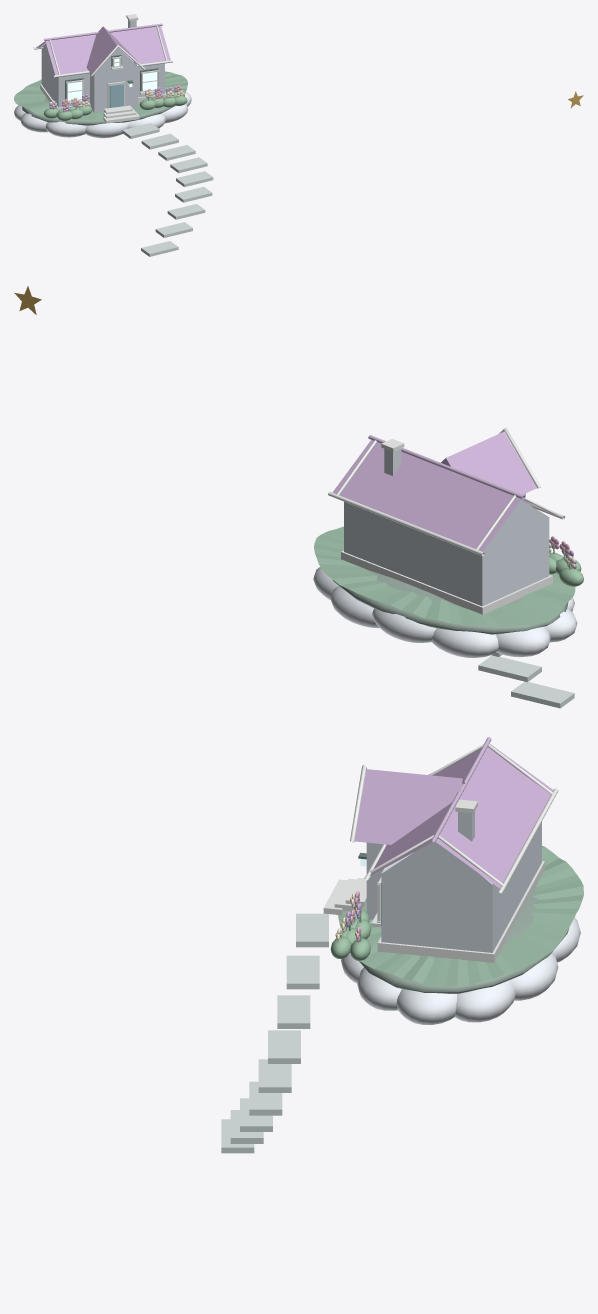
The model's file is cottage.glb.
3 views of the same model, one above another, from view 1: azimuth 30°, elevation 25°; view 2: azimuth 150°, elevation 25°; view 3: azimuth 270°, elevation 25° (orthographic). The views are drawn at different scales.
Visible parts, largest first — view 1: Rose pitched roof -1, Front cross gable plaster, Cottage irregular meadow, Cottage main plaster volume, Cross gable rose roof -1, Cottage mossy underside, Soft cloud underside 08, Soft cloud underside 07, Cloud approach floating step 02, Cloud approach floating step 01, Cloud approach floating step 05, Cloud approach floating step 07 (+9 smaller); view 2: Cottage main plaster volume, Rose pitched roof 1, Cottage irregular meadow, Cross gable rose roof -1, Cottage mossy underside, Cottage foundation trim, Soft cloud underside 04, Soft cloud underside 05, Soft cloud underside 03, Soft cloud underside 02, Cloud approach floating step 00, Cloud approach floating step 01 (+4 smaller); view 3: Cottage main plaster volume, Cottage irregular meadow, Rose pitched roof 1, Cross gable rose roof 1, Main gable infill.001, Cottage mossy underside, Cottage foundation trim, Rose pitched roof -1, Soft cloud underside 01, Soft cloud underside 00, Soft cloud underside 02, Cloud approach floating step 07 (+8 smaller).
Boxes of the visible parts, left/top/right/bottom form: Rose pitched roof -1: left=45, top=26, right=170, bottom=75; Front cross gable plaster: left=90, top=48, right=137, bottom=112; Cottage irregular meadow: left=14, top=71, right=187, bottom=120; Cottage main plaster volume: left=41, top=51, right=164, bottom=107; Cross gable rose roof -1: left=86, top=26, right=116, bottom=74; Cottage mossy underside: left=22, top=95, right=184, bottom=125; Soft cloud underside 08: left=85, top=122, right=129, bottom=138; Soft cloud underside 07: left=45, top=121, right=86, bottom=137; Cloud approach floating step 02: left=167, top=204, right=205, bottom=219; Cloud approach floating step 01: left=155, top=222, right=192, bottom=237; Cloud approach floating step 05: left=170, top=157, right=207, bottom=173; Cloud approach floating step 07: left=141, top=133, right=178, bottom=149; Cottage main plaster volume: left=344, top=501, right=549, bottom=606; Rose pitched roof 1: left=332, top=440, right=521, bottom=551; Cottage irregular meadow: left=314, top=526, right=575, bottom=626; Cross gable rose roof -1: left=446, top=431, right=536, bottom=494; Cottage mossy underside: left=332, top=569, right=568, bottom=634; Cottage foundation trim: left=341, top=550, right=552, bottom=614; Soft cloud underside 04: left=431, top=628, right=498, bottom=657; Soft cloud underside 05: left=496, top=626, right=550, bottom=657; Soft cloud underside 03: left=372, top=608, right=436, bottom=642; Soft cloud underside 02: left=330, top=586, right=379, bottom=628; Cloud approach floating step 00: left=511, top=681, right=574, bottom=708; Cloud approach floating step 01: left=478, top=655, right=541, bottom=682; Cottage main plaster volume: left=381, top=822, right=541, bottom=952; Cottage irregular meadow: left=338, top=846, right=583, bottom=986; Rose pitched roof 1: left=436, top=743, right=553, bottom=888; Cross gable rose roof 1: left=354, top=769, right=462, bottom=844; Main gable infill.001: left=381, top=842, right=491, bottom=884; Cottage mossy underside: left=359, top=887, right=569, bottom=993; Cottage foundation trim: left=377, top=861, right=544, bottom=962; Rose pitched roof -1: left=370, top=749, right=480, bottom=875; Soft cloud underside 01: left=454, top=980, right=515, bottom=1022; Soft cloud underside 00: left=396, top=989, right=456, bottom=1024; Soft cloud underside 02: left=510, top=952, right=558, bottom=1000; Cloud approach floating step 07: left=286, top=955, right=319, bottom=989.
Bounding box in the file's own units: 6.13 × 2.43 × 3.44.
